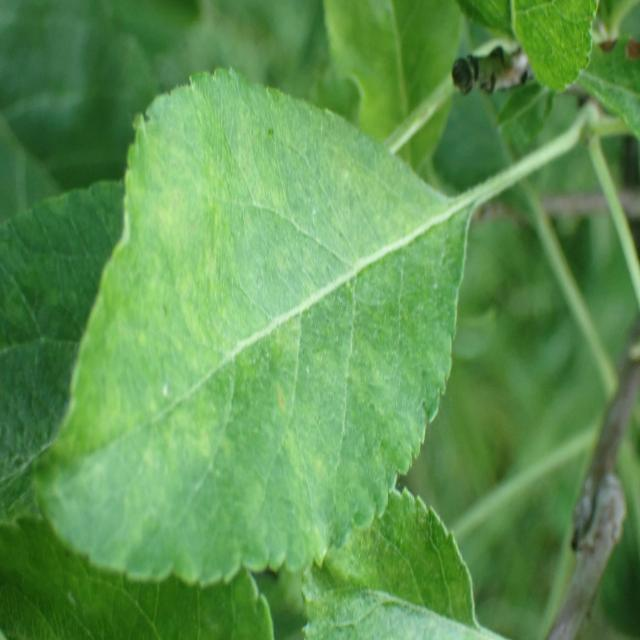scab: (96, 122, 454, 540)
